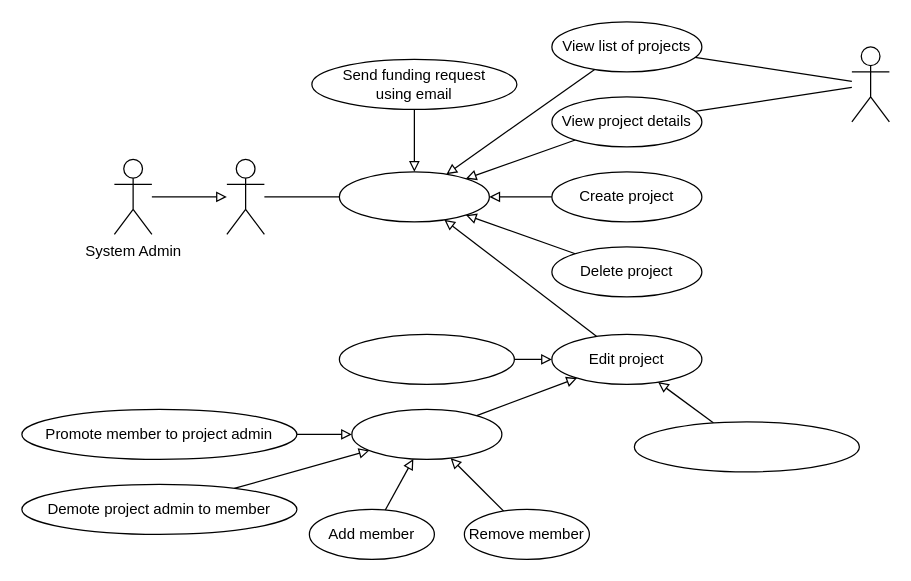
Some shapes in this 911 by 581 pixel diagram are drawn without their labels. Here are the shapes that lost their labels. From the top down, the centre of each, then its label:
At point (870, 84): "User".
At point (245, 196): "Project Admin".
At point (413, 196): "Manage projects".
At point (426, 358): "Change project name".
At point (426, 433): "Manage members".
At point (746, 446): "Change project description".
